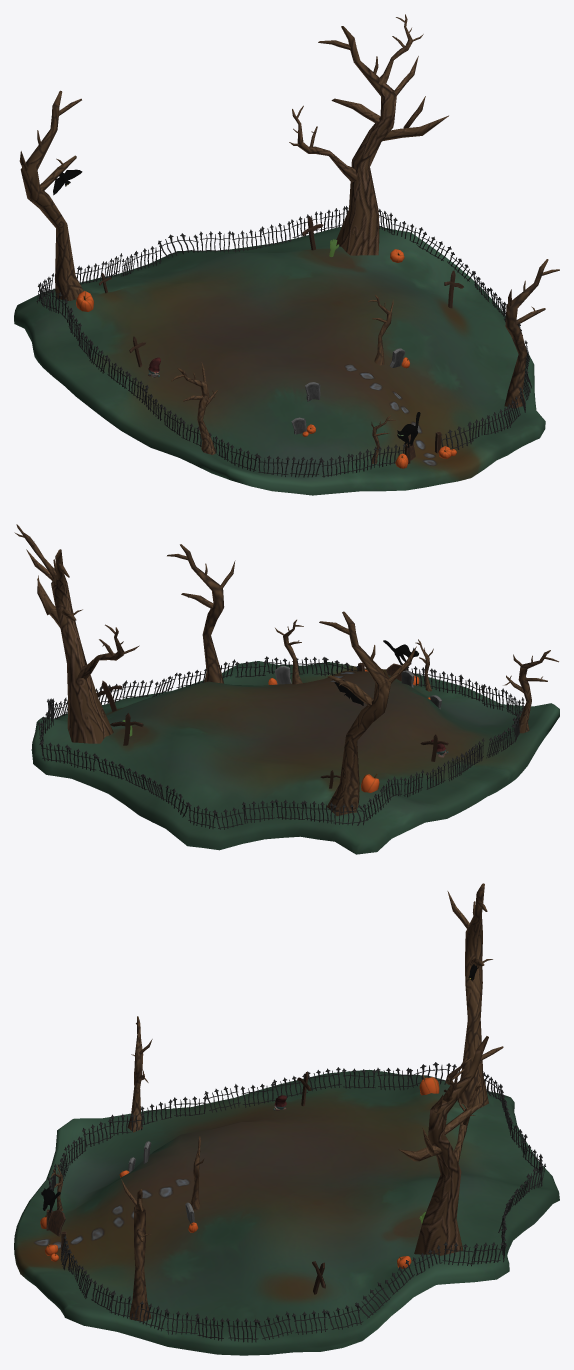
The model's file is floor3.glb.
3 renders of one model, top to bottom at view 1: azimuth 30°, elevation 25°; view 2: azimuth 150°, elevation 25°; view 3: azimuth 270°, elevation 25°, orthographic. The views are drawn at different scales.
Parts seen in each view (by area): view 1: Base, FenceIron, LargeTree, LargeTreeLeft, MediumTreeRight, MediumTreeLeft, GraveMarkers; view 2: Base, FenceIron, LargeTree, LargeTreeLeft, MediumTreeRight, MediumTreeLeft, GraveMarkers, SmallTreeDoor; view 3: Base, FenceIron, LargeTree, LargeTreeLeft, MediumTreeRight, MediumTreeLeft.
Part boxes in pixels (x1=…): Base: x1=14, y1=226, x2=545, y2=495; FenceIron: x1=36, y1=206, x2=531, y2=477; LargeTree: x1=289, y1=14, x2=448, y2=255; LargeTreeLeft: x1=19, y1=90, x2=83, y2=300; MediumTreeRight: x1=504, y1=259, x2=559, y2=408; MediumTreeLeft: x1=171, y1=362, x2=217, y2=454; GraveMarkers: x1=99, y1=216, x2=463, y2=367; Base: x1=31, y1=661, x2=559, y2=854; FenceIron: x1=38, y1=656, x2=524, y2=829; LargeTree: x1=14, y1=524, x2=139, y2=743; LargeTreeLeft: x1=319, y1=611, x2=416, y2=816; MediumTreeRight: x1=167, y1=544, x2=235, y2=683; MediumTreeLeft: x1=503, y1=650, x2=558, y2=733; GraveMarkers: x1=97, y1=680, x2=448, y2=788; SmallTreeDoor: x1=275, y1=619, x2=303, y2=684; Base: x1=14, y1=1069, x2=559, y2=1355; FenceIron: x1=47, y1=1062, x2=545, y2=1342; LargeTree: x1=398, y1=1036, x2=503, y2=1255; LargeTreeLeft: x1=447, y1=883, x2=492, y2=1109; MediumTreeRight: x1=121, y1=1179, x2=151, y2=1321; MediumTreeLeft: x1=127, y1=1016, x2=152, y2=1132.
Size of the model in its own units: 15.06 by 9.17 by 15.31.
9 materials, 7 textured.
